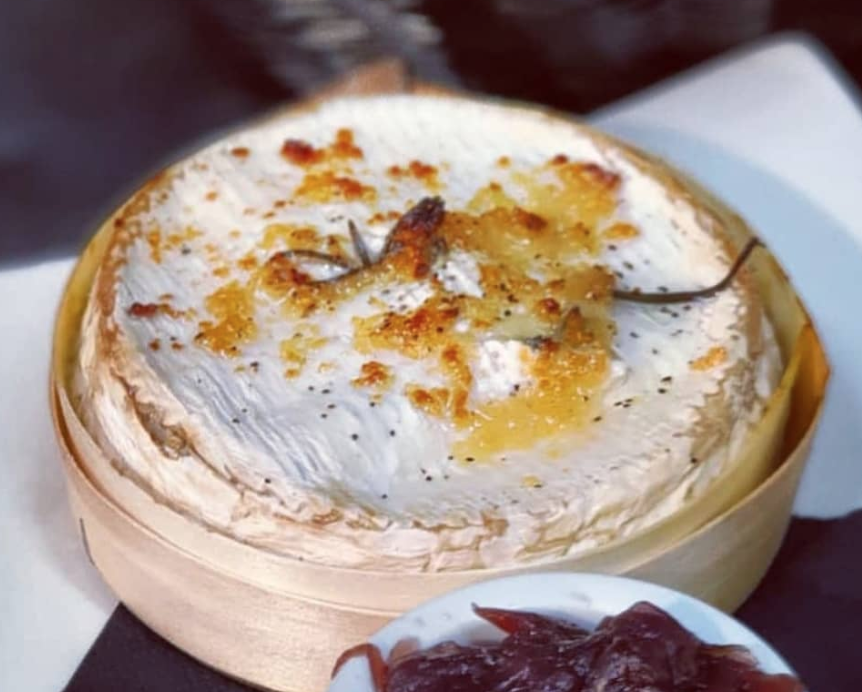camembert: (69, 91, 792, 587)
